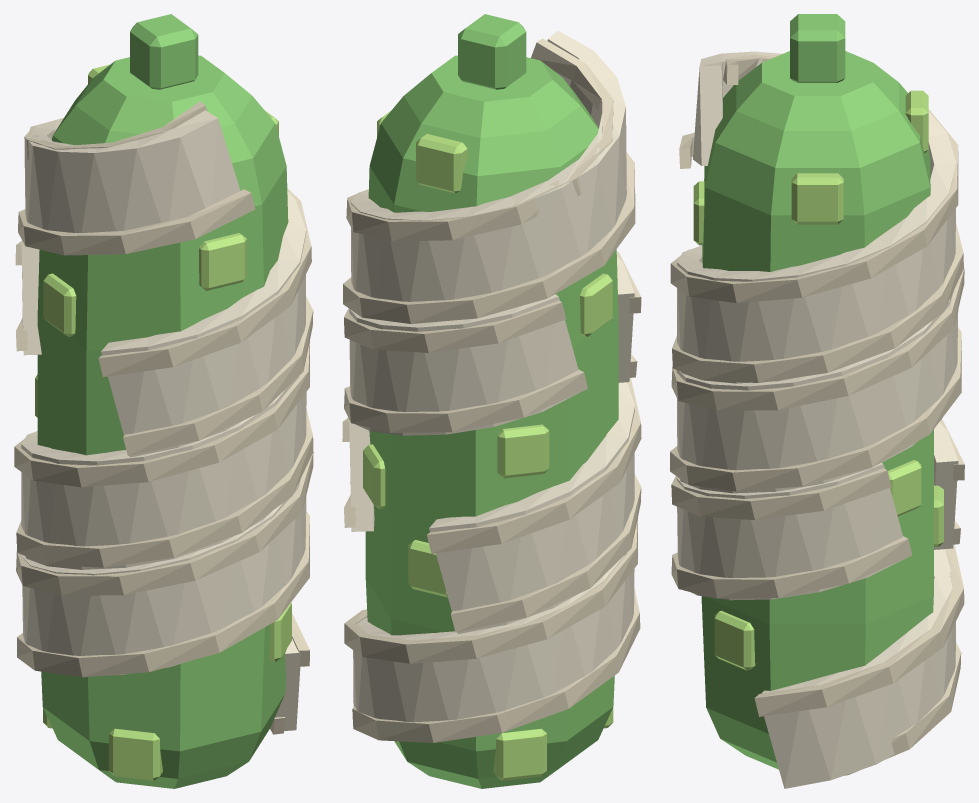
Rendered from DesertWrappedCucumber.fbx.
The picture shows the model from 3 angles, left to right: view 1: azimuth 30°, elevation 25°; view 2: azimuth 150°, elevation 25°; view 3: azimuth 270°, elevation 25°; orthographic projection.
Visible parts, largest first — view 1: DesertWrappedCucumber.Bands, DesertWrappedCucumber.Body, DesertWrappedCucumber.BandEdges, DesertWrappedCucumber.Studs; view 2: DesertWrappedCucumber.Bands, DesertWrappedCucumber.Body, DesertWrappedCucumber.BandEdges, DesertWrappedCucumber.Studs; view 3: DesertWrappedCucumber.Bands, DesertWrappedCucumber.Body, DesertWrappedCucumber.BandEdges, DesertWrappedCucumber.Studs.
Boxes of the visible parts, x1=… form: DesertWrappedCucumber.Bands: x1=21, y1=110, x2=306, y2=730; DesertWrappedCucumber.Body: x1=37, y1=14, x2=288, y2=788; DesertWrappedCucumber.BandEdges: x1=14, y1=101, x2=313, y2=734; DesertWrappedCucumber.Studs: x1=35, y1=64, x2=291, y2=780; DesertWrappedCucumber.Bands: x1=349, y1=30, x2=634, y2=722; DesertWrappedCucumber.Body: x1=365, y1=14, x2=618, y2=788; DesertWrappedCucumber.BandEdges: x1=342, y1=38, x2=641, y2=742; DesertWrappedCucumber.Studs: x1=363, y1=111, x2=613, y2=780; DesertWrappedCucumber.Bands: x1=676, y1=51, x2=958, y2=788; DesertWrappedCucumber.Body: x1=701, y1=14, x2=933, y2=769; DesertWrappedCucumber.BandEdges: x1=670, y1=54, x2=964, y2=775; DesertWrappedCucumber.Studs: x1=693, y1=90, x2=943, y2=670.
Bounding box in the file's own units: 1.6 × 4.3 × 1.59.
